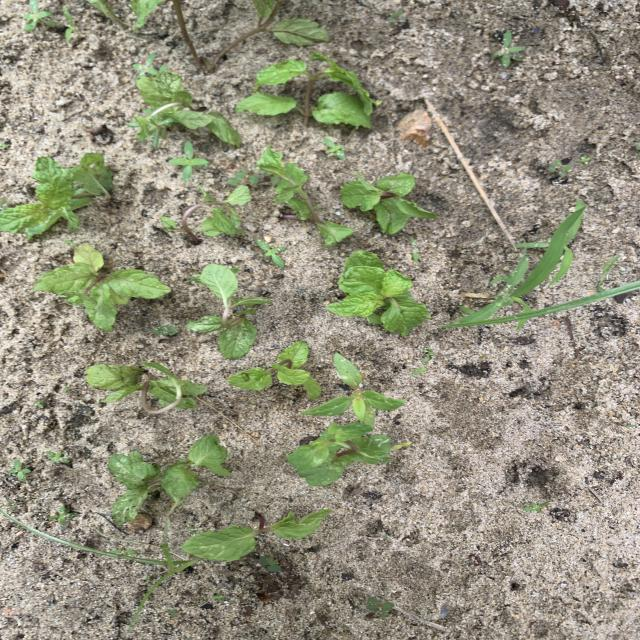crop: (34, 244, 170, 330), (170, 0, 328, 71), (109, 435, 230, 523), (238, 54, 378, 127), (0, 153, 111, 239), (257, 147, 351, 246), (327, 250, 429, 335), (135, 69, 239, 145), (188, 264, 271, 358), (303, 353, 405, 427), (288, 422, 405, 485), (183, 510, 331, 559), (86, 362, 207, 414), (340, 174, 435, 233), (161, 185, 251, 243), (228, 342, 307, 391), (130, 0, 167, 29), (88, 0, 114, 19)
weed: (443, 202, 638, 327), (1, 510, 192, 631), (128, 109, 173, 146), (170, 142, 207, 181), (492, 30, 523, 67), (89, 0, 126, 28), (23, 1, 55, 31), (256, 239, 285, 267), (228, 168, 259, 187), (8, 459, 31, 481), (133, 54, 157, 75), (367, 597, 394, 615), (62, 7, 76, 39), (324, 138, 345, 159), (50, 506, 75, 523), (46, 451, 70, 463), (260, 556, 279, 571), (153, 325, 178, 335), (388, 10, 406, 23), (524, 501, 547, 511), (422, 348, 434, 362), (412, 366, 426, 375), (169, 610, 178, 616), (213, 594, 223, 599), (35, 402, 43, 407), (1, 142, 7, 147)
